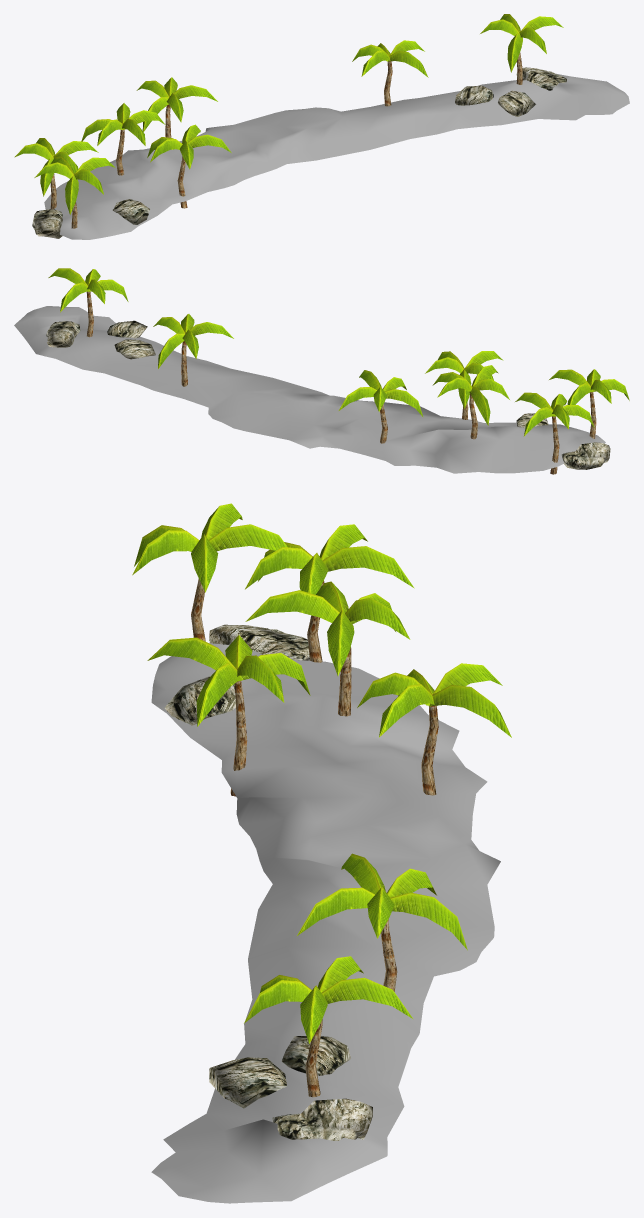
The model's file is island_08.fbx.
The picture shows the model from 3 angles, top to bottom: view 1: azimuth 30°, elevation 25°; view 2: azimuth 150°, elevation 25°; view 3: azimuth 270°, elevation 25°; orthographic projection. The views are drawn at different scales.
Parts seen in each view (by area): view 1: island_08; view 2: island_08; view 3: island_08.
Part boxes in pixels (left/top/right/bottom): island_08: left=14, top=14, right=629, bottom=239; island_08: left=14, top=268, right=629, bottom=474; island_08: left=132, top=503, right=511, bottom=1203.
Size of the model in its own units: 0.5833 by 0.083 by 0.1635.
